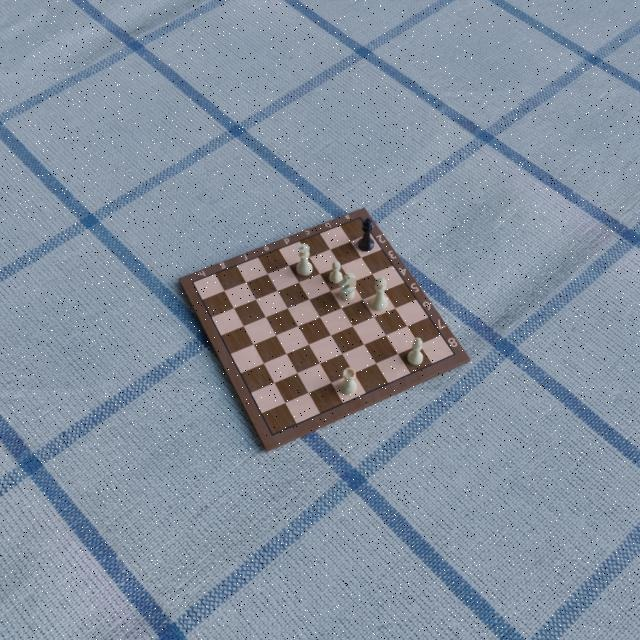black-king: (357, 216, 375, 252)
white-bishop: (407, 337, 422, 367)
white-king: (369, 279, 387, 313)
white-knight: (339, 273, 357, 303)
white-pawn: (328, 259, 344, 285)
white-queen: (295, 242, 314, 278)
white-rook: (340, 365, 356, 399)
